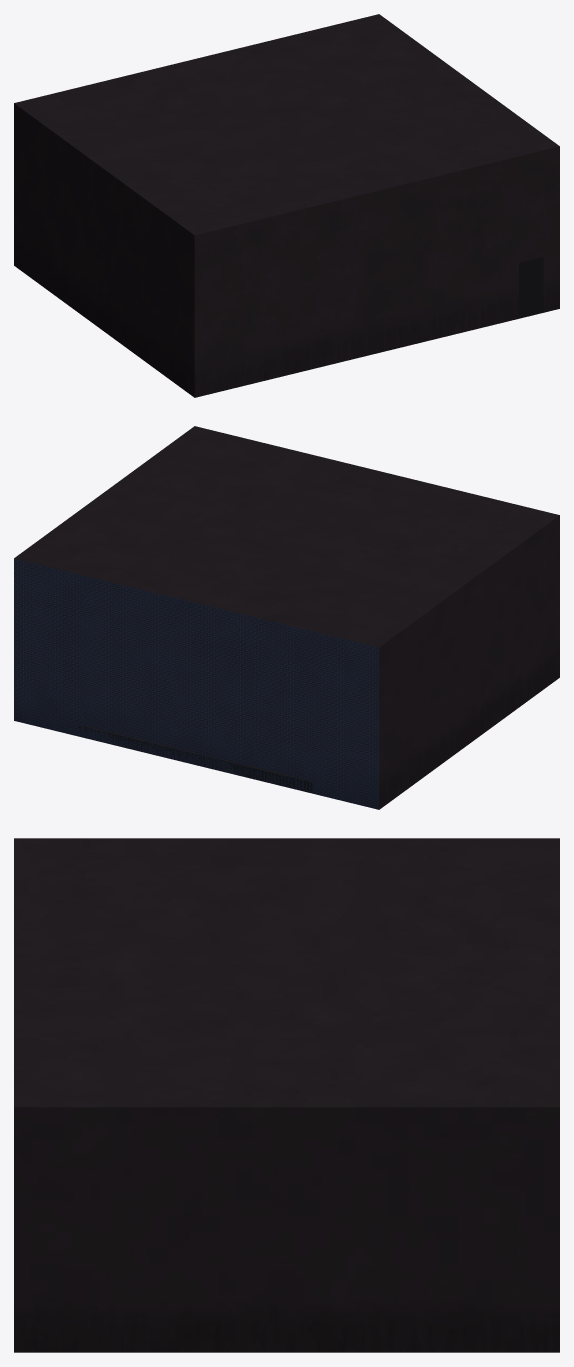
File: club-late-night-tv.glb
3 views of the same model, one above another, from view 1: azimuth 30°, elevation 25°; view 2: azimuth 150°, elevation 25°; view 3: azimuth 270°, elevation 25° (orthographic). The views are drawn at different scales.
Parts seen in each view (by area): view 1: club_house; view 2: club_house, club_wall, club_stage; view 3: club_house.
Boxes of the visible parts, <box> form: club_house: <box>14,14,559,397</box>; club_house: <box>14,426,559,809</box>; club_wall: <box>14,558,379,809</box>; club_stage: <box>79,725,313,793</box>; club_house: <box>14,838,559,1352</box>.
Size of the model in its own units: 14 by 6.32 by 12.
Materials: 16 (5 with a texture image).
